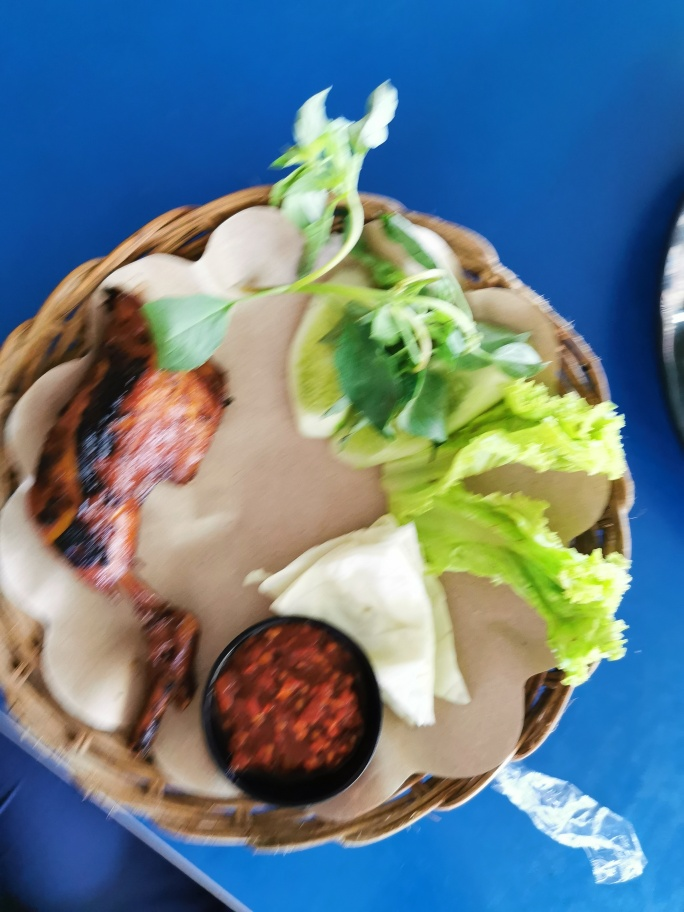ayam bakar: (32, 284, 234, 758)
